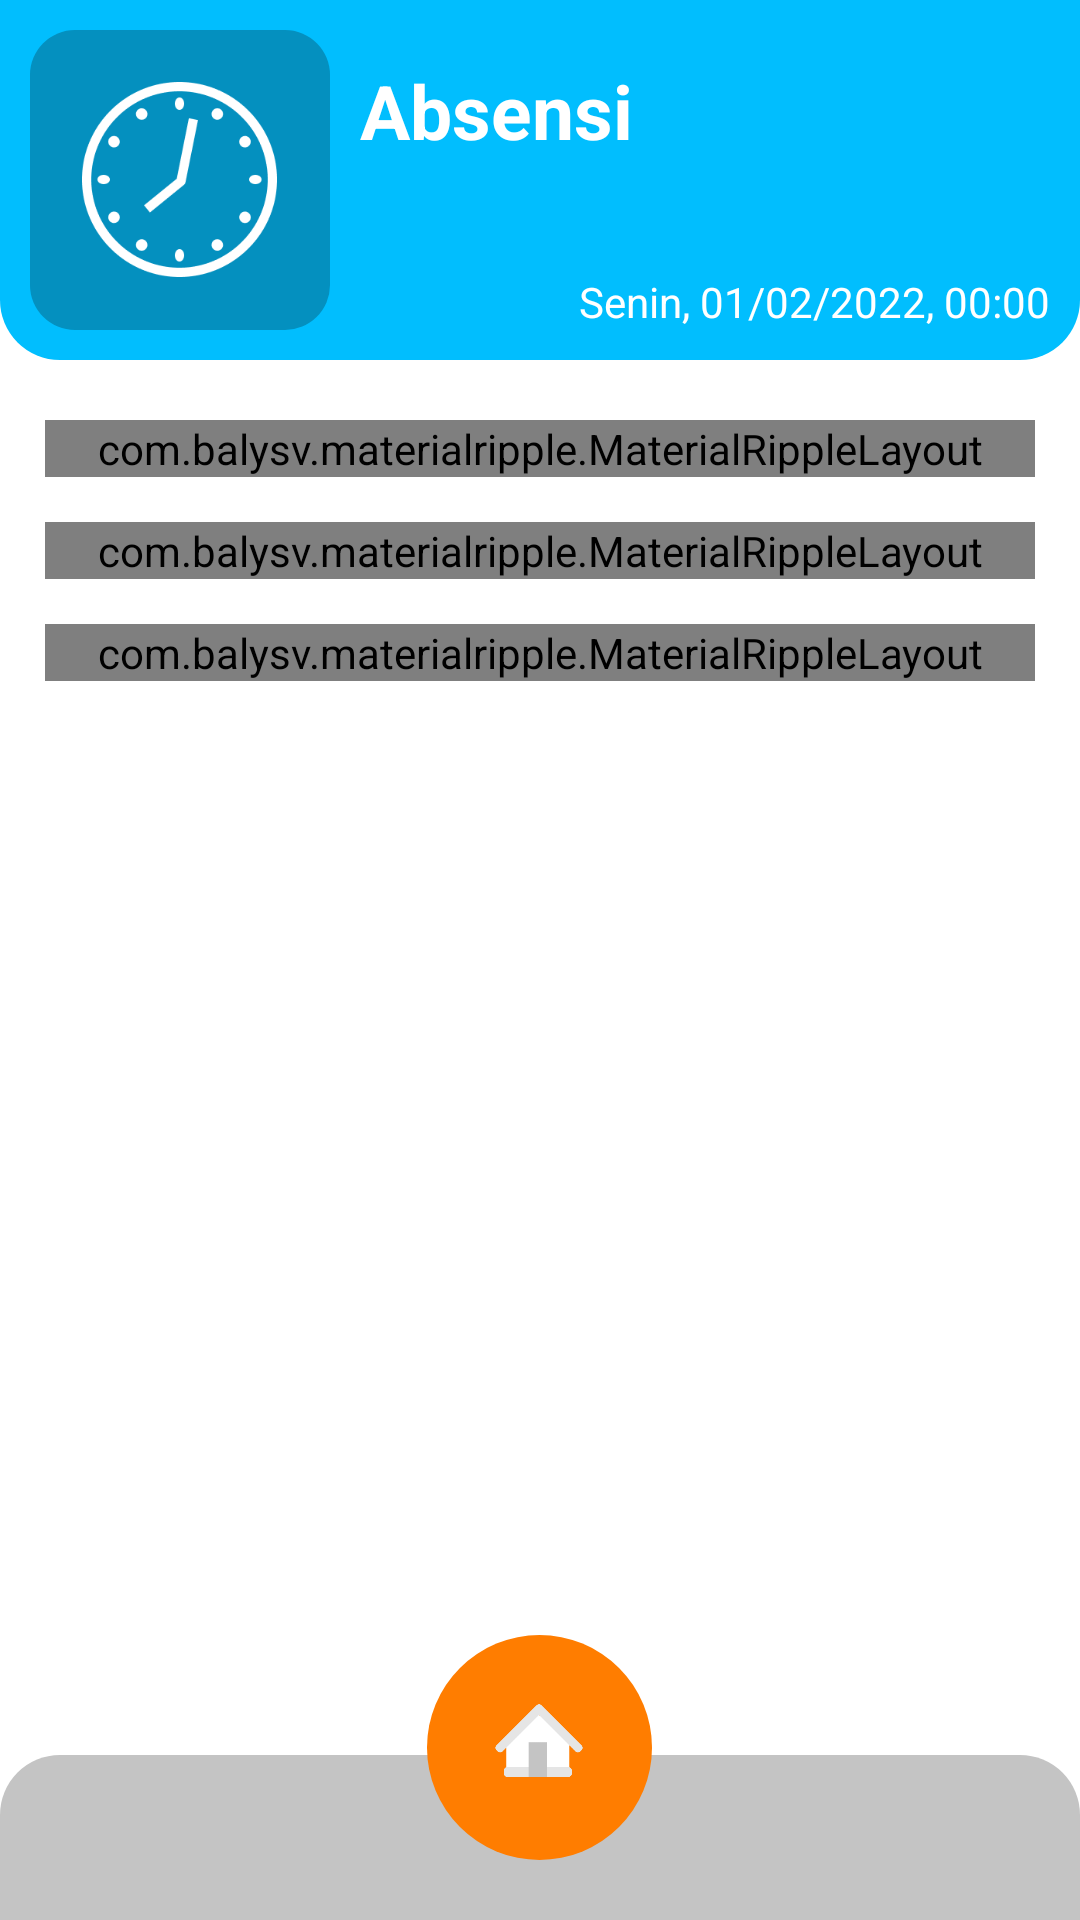

Named icons in this screenshot (1080w x 1920h) and their bounding boxes, {"x1": x1, "y1": y1, "x2": x2, "y2": y2}:
home: {"x1": 495, "y1": 1704, "x2": 583, "y2": 1777}
